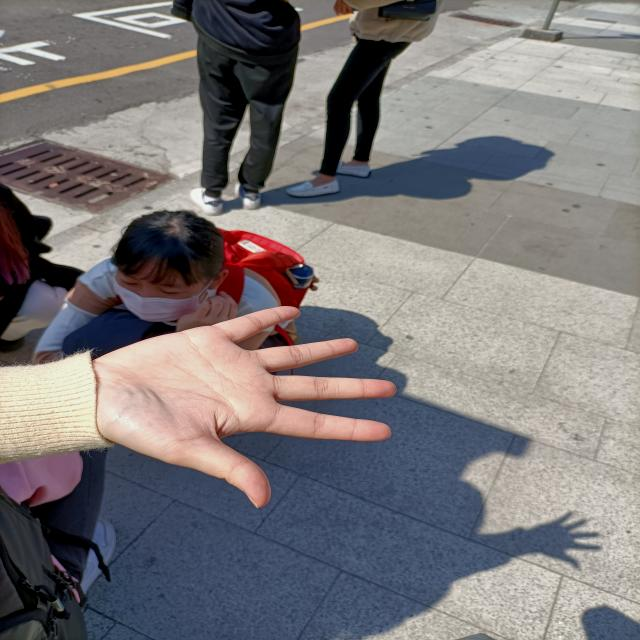no_glove: (58, 296, 411, 516)
